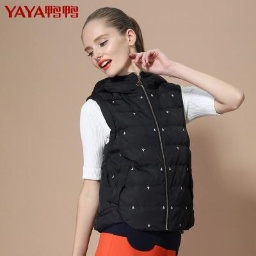face: (76, 2, 152, 86)
